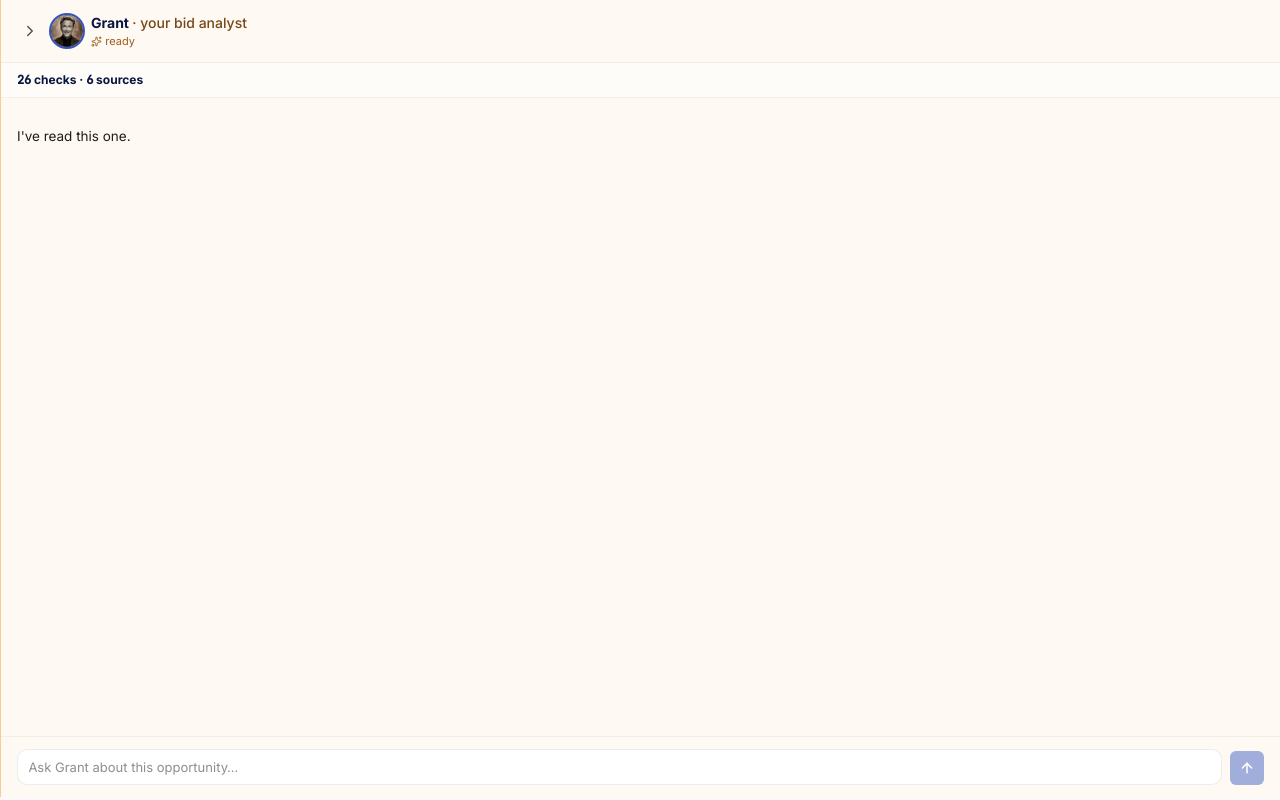
Test case: GrantRail — the drafting deflection's mentor CTA (UAT #46 item 2) › renders no CTA on an ordinary reply
Type "who holds it?" into the text box labelled "Ask Grant" at (620, 767), box x1=17 y1=749 x2=1222 y2=785
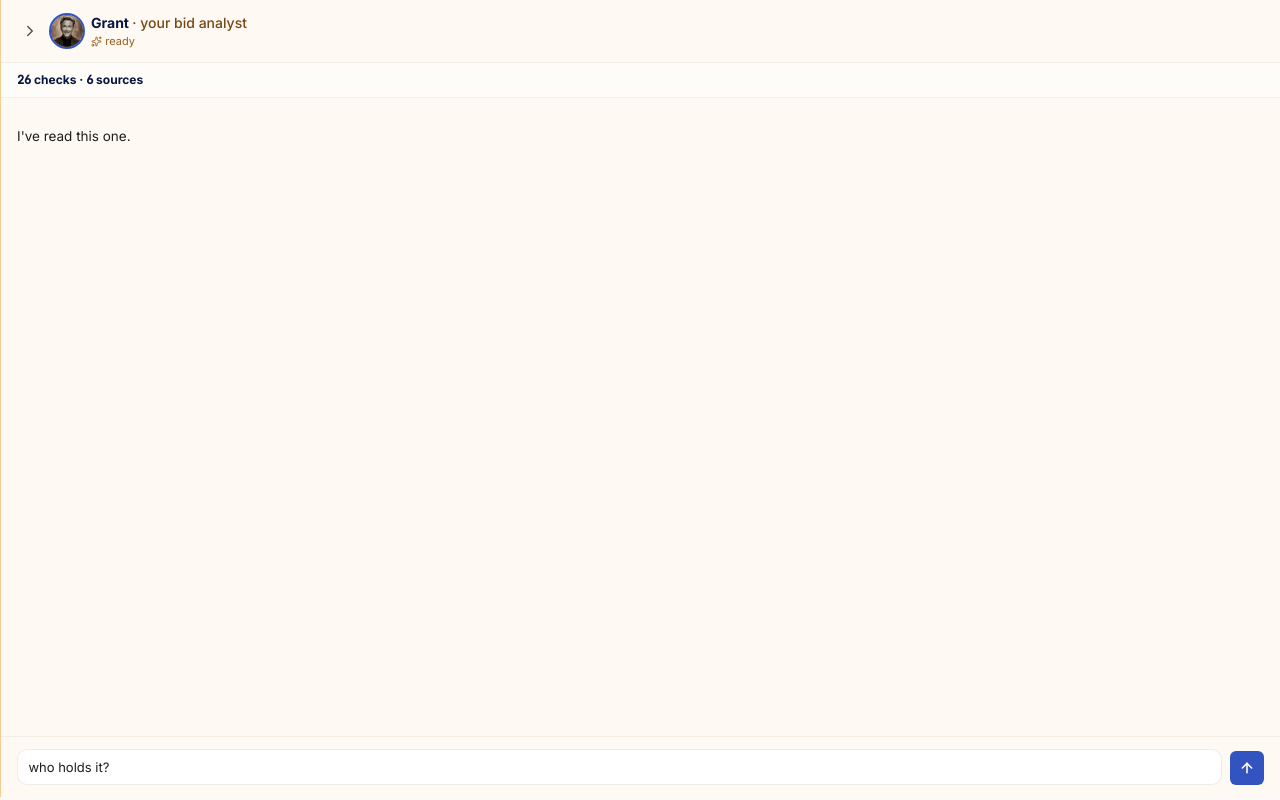
Click the button named "Send" at (1247, 768), box x1=1230 y1=751 x2=1264 y2=785
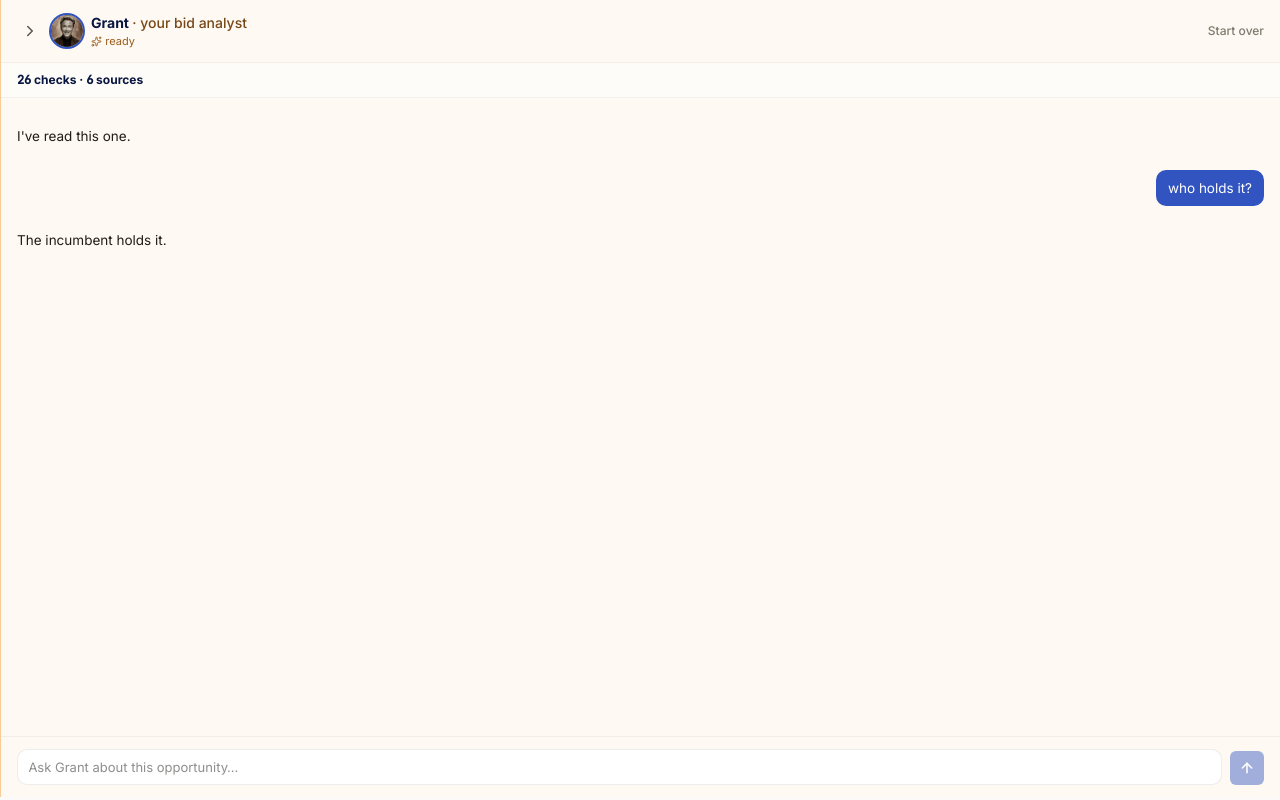
expect the text "The incumbent holds it." is shown: met, box x1=17 y1=232 x2=167 y2=248
